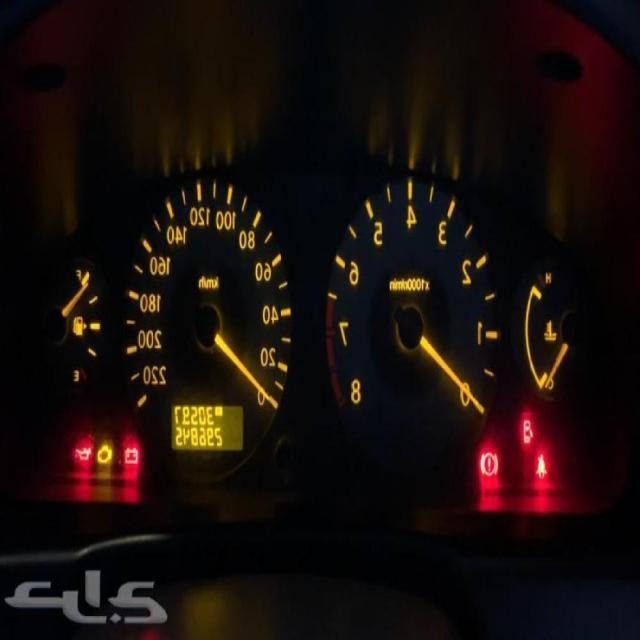Seat Belt: (535, 454, 547, 478)
